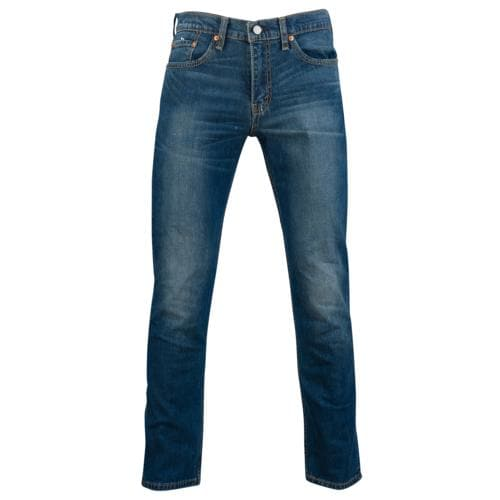Jeans: (132, 8, 367, 493)
